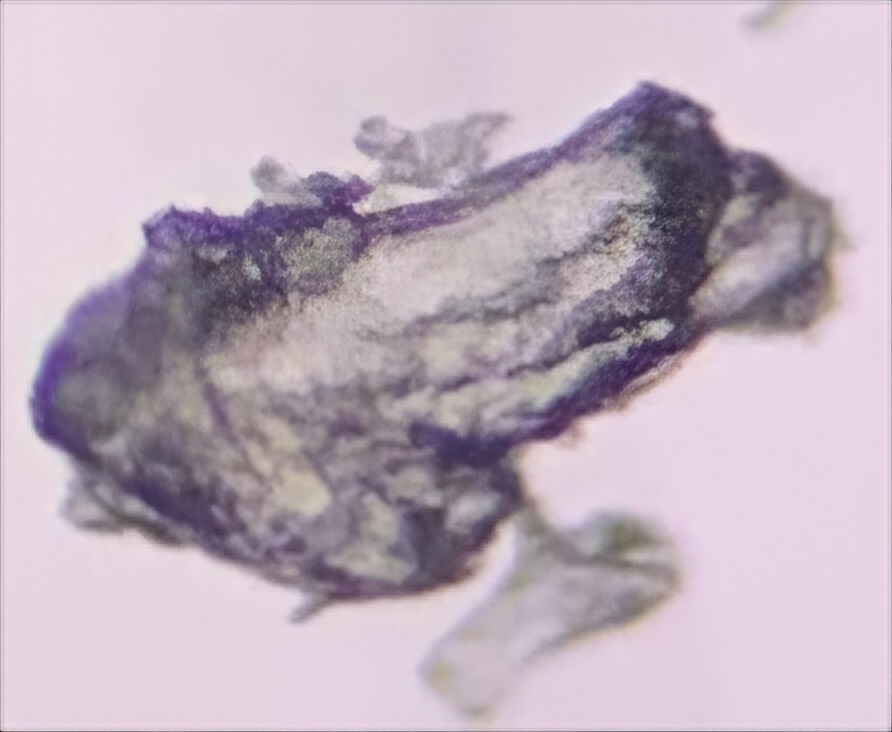microplastic: (27, 76, 861, 725)
